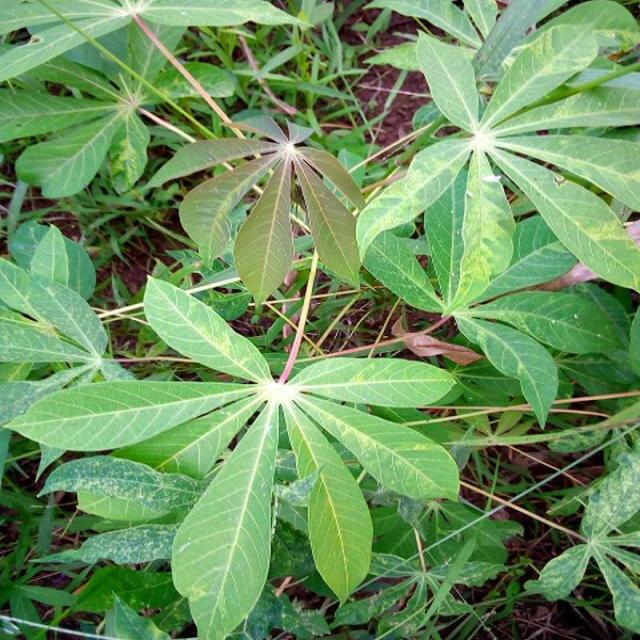cassava leaf: (0, 1, 638, 637), (6, 272, 464, 637), (356, 7, 638, 316)
